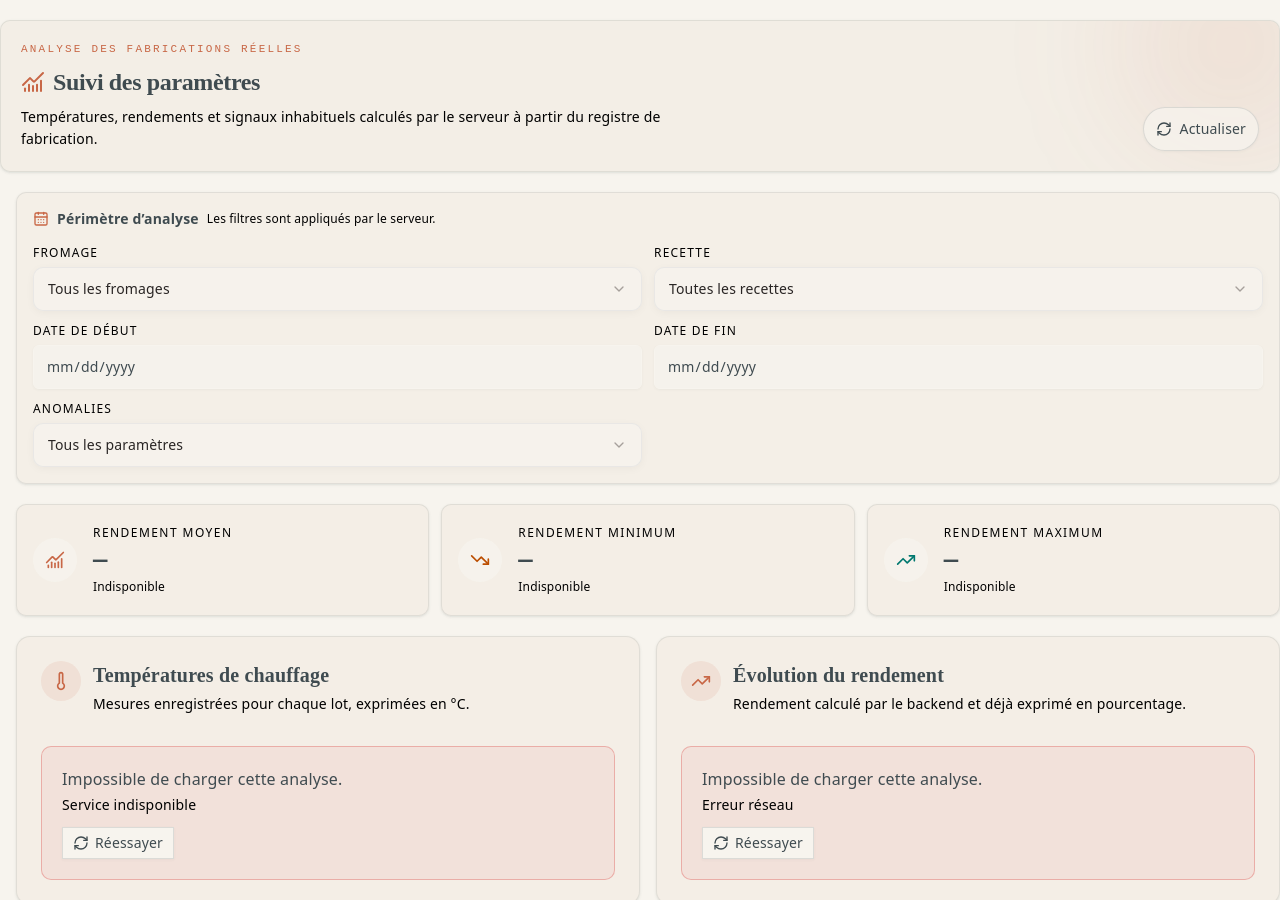
Test: Monitoring › affiche les erreurs backend et permet de relancer
Check: the text "Service indisponible" is shown, box [62,795,196,814]
Check: the text "Erreur réseau" is shown, box [702,795,794,814]
Click the button "Réessayer" below "Service indisponible" at (118, 843), box [62,827,174,859]
(page scrolled)
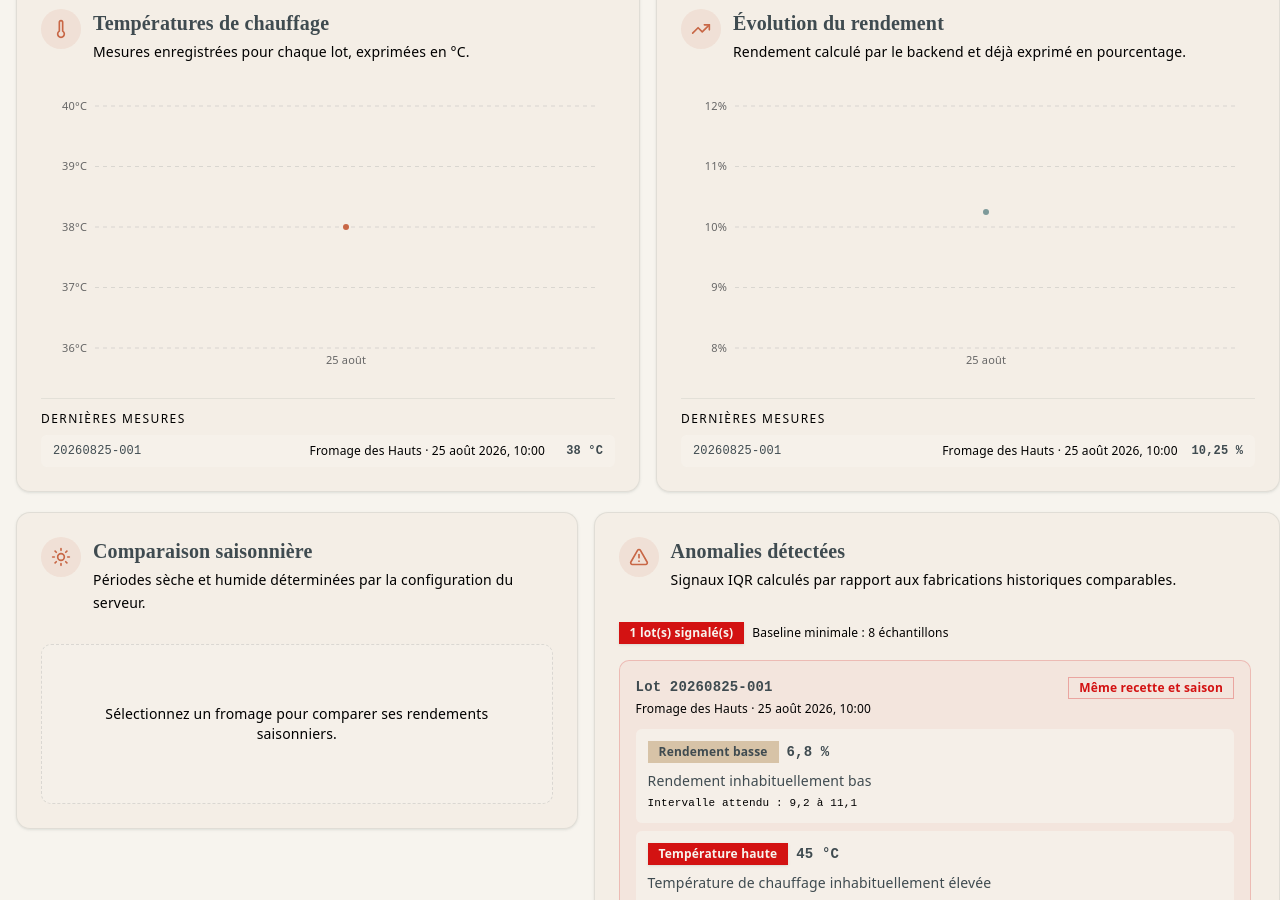
Check: the text "38 °C" is shown, box [566,443,603,459]
